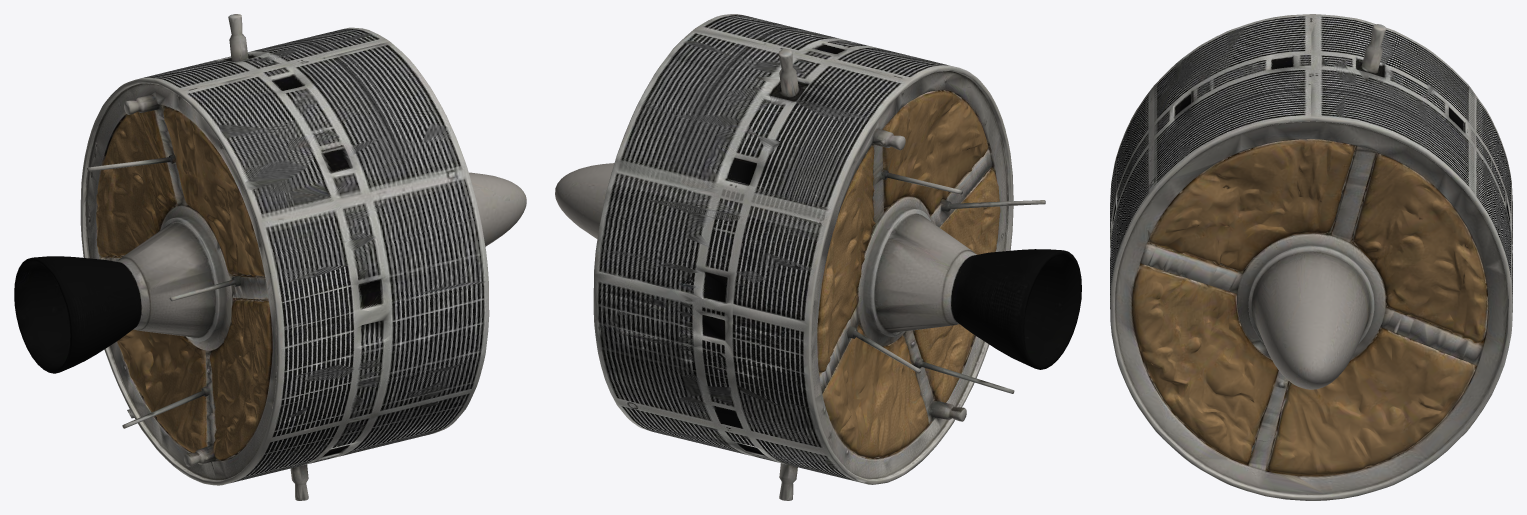
File: opera05.glb
The picture shows the model from 3 angles, left to right: view 1: azimuth 30°, elevation 25°; view 2: azimuth 150°, elevation 25°; view 3: azimuth 270°, elevation 25°; orthographic projection. The views are drawn at different scales.
Parts seen in each view (by area): view 1: tripo_node_aef3d298-6f1e-4ece-a34e-4fac30fde22f; view 2: tripo_node_aef3d298-6f1e-4ece-a34e-4fac30fde22f; view 3: tripo_node_aef3d298-6f1e-4ece-a34e-4fac30fde22f.
Boxes of the visible parts, left/top/right/bottom form: tripo_node_aef3d298-6f1e-4ece-a34e-4fac30fde22f: left=14, top=14, right=526, bottom=500; tripo_node_aef3d298-6f1e-4ece-a34e-4fac30fde22f: left=555, top=14, right=1081, bottom=500; tripo_node_aef3d298-6f1e-4ece-a34e-4fac30fde22f: left=1110, top=14, right=1512, bottom=500.
Bounding box in the file's own units: 0.9999 × 0.8679 × 0.7162.
1 material, 1 textured.
